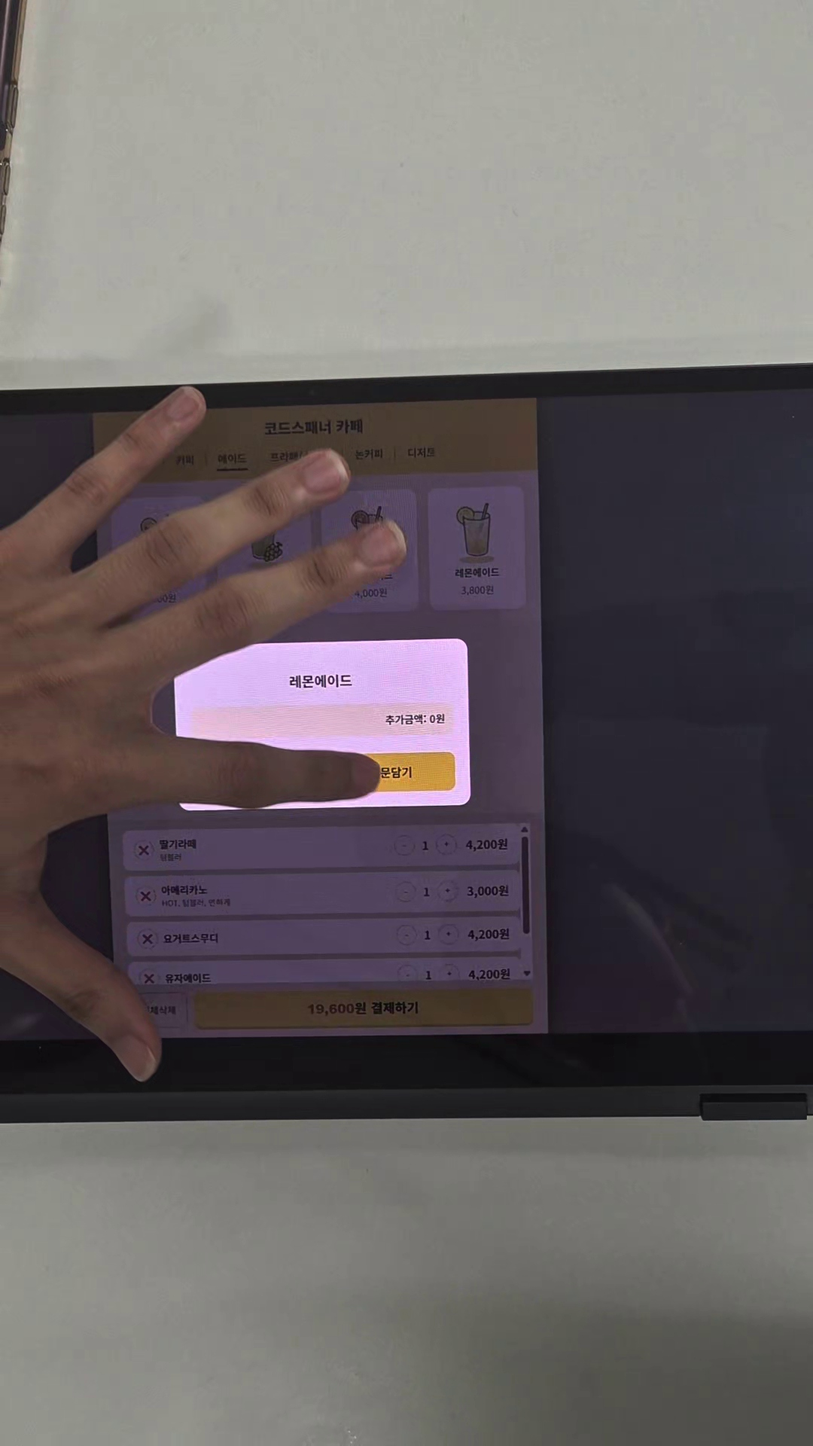action_button: (330, 751, 454, 791)
popup_modal: (176, 638, 472, 807)
